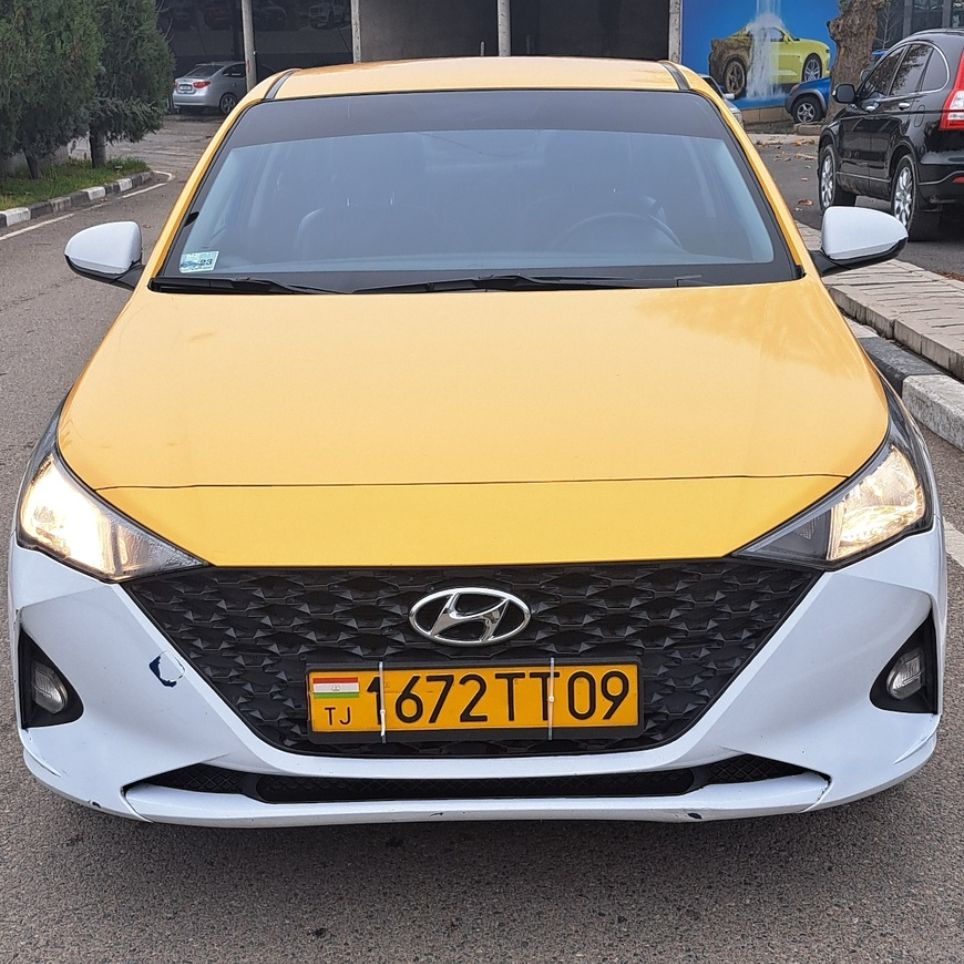license plate: (306, 665, 640, 735)
truck: (17, 59, 949, 866)
